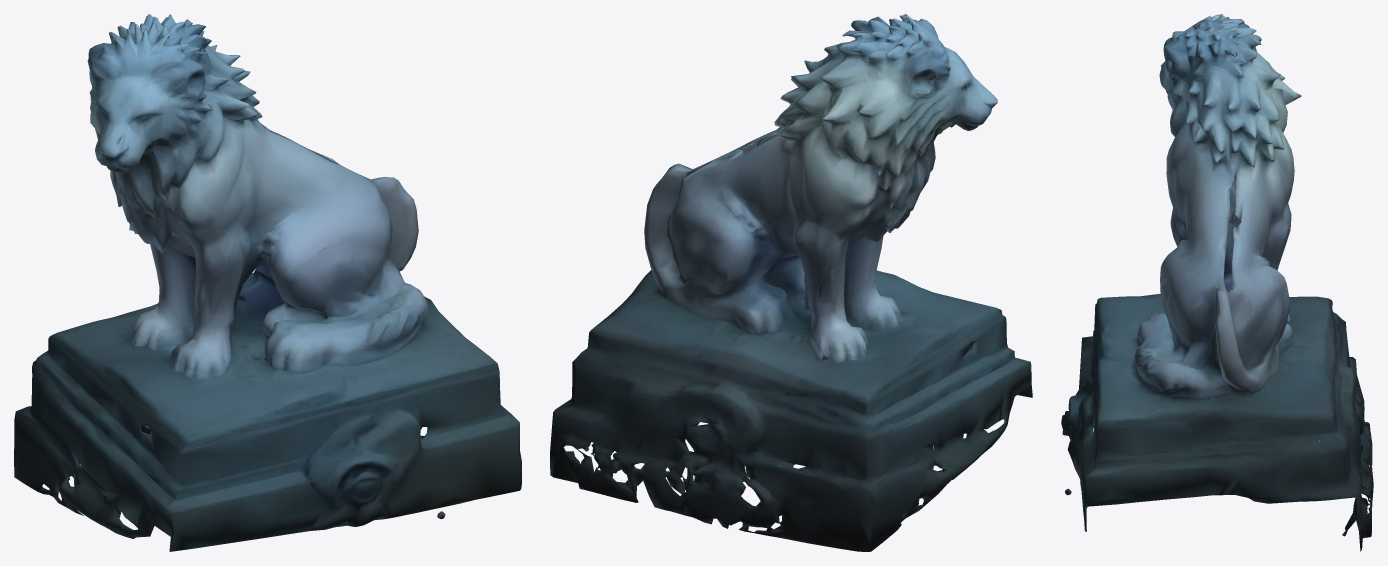
Rendered from Asuraguardianlion.glb.
3 views of the same model, side by side, from view 1: azimuth 30°, elevation 25°; view 2: azimuth 150°, elevation 25°; view 3: azimuth 270°, elevation 25° (orthographic). The views are drawn at different scales.
Visible parts, largest first — view 1: geometry_0; view 2: geometry_0; view 3: geometry_0.
Part boxes in pixels (x1,y1,x2,y2): geometry_0: (14,14,521,551); geometry_0: (550,14,1032,551); geometry_0: (1061,14,1373,551).
Size of the model in its own units: 0.7656 by 1 by 0.6743.
1 material, 1 textured.
